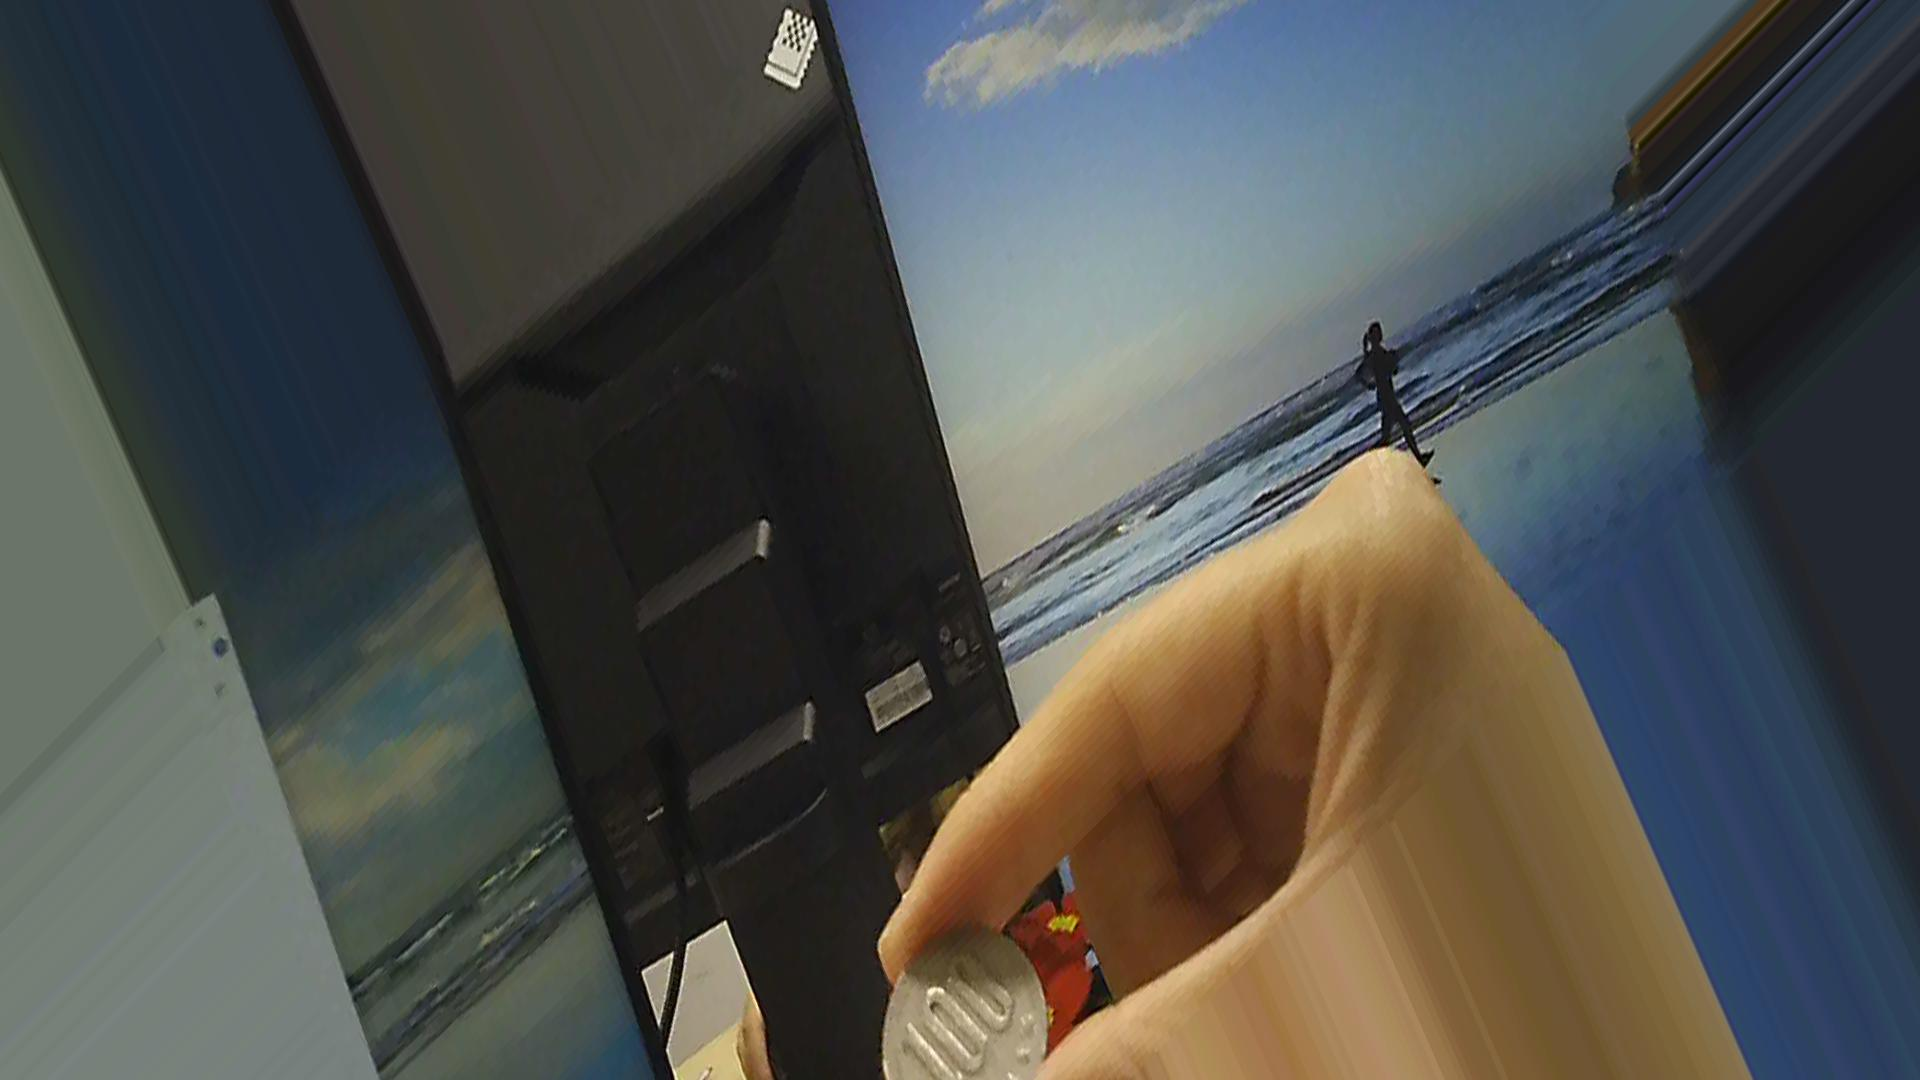100 Yen: (851, 928, 1050, 1079)
